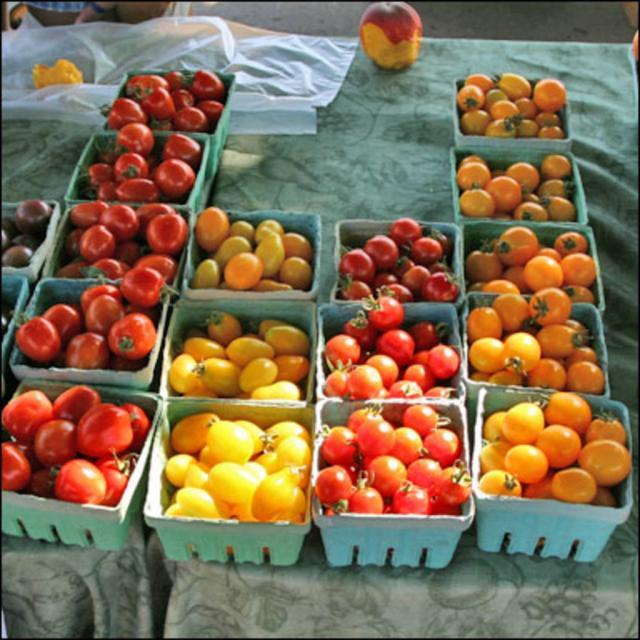Tomato: (0, 66, 229, 506), (459, 70, 629, 490), (165, 202, 307, 527), (330, 400, 458, 518), (322, 294, 448, 398), (341, 216, 463, 302)
